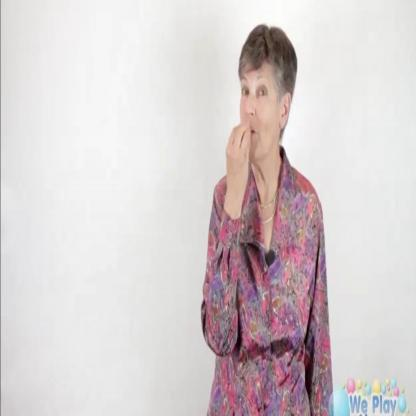Food: (226, 26, 310, 206)
